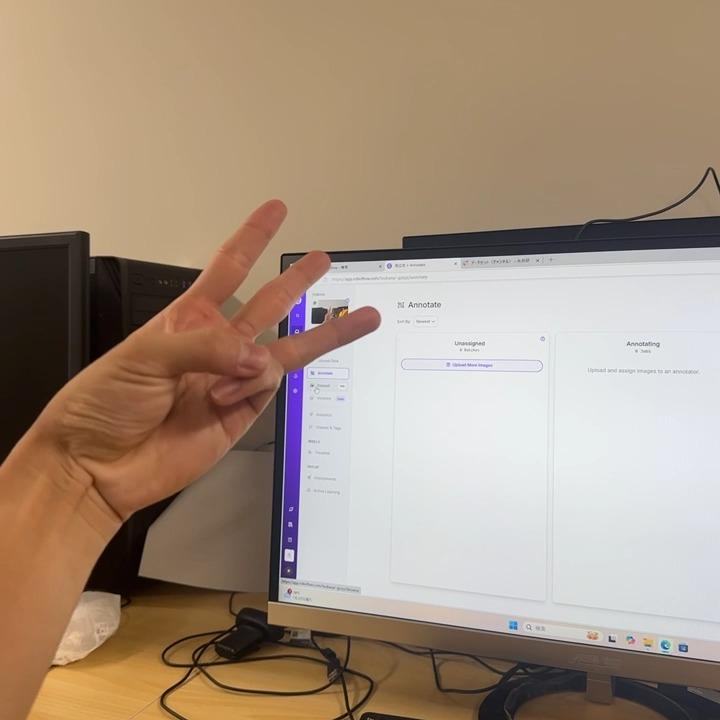without_gloves: (63, 205, 415, 505)
